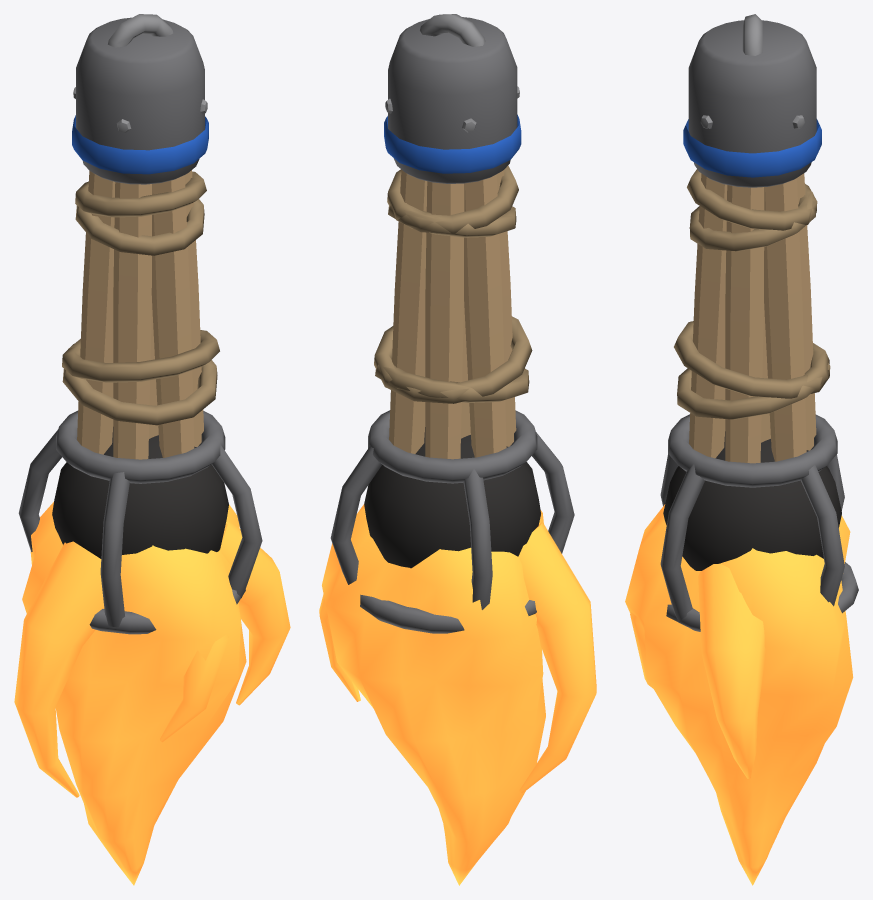
File: Kit_Torch_Head.glb
The picture shows the model from 3 angles, left to right: view 1: azimuth 30°, elevation 25°; view 2: azimuth 150°, elevation 25°; view 3: azimuth 270°, elevation 25°; orthographic projection.
Visible parts, largest first — view 1: Kit_Torch_Head; view 2: Kit_Torch_Head; view 3: Kit_Torch_Head.
Part boxes in pixels (<box>): Kit_Torch_Head: <box>14,14,290,885</box>; Kit_Torch_Head: <box>319,14,596,885</box>; Kit_Torch_Head: <box>625,14,858,885</box>.
Bounding box in the file's own units: 0.1657 × 0.5053 × 0.1229.
